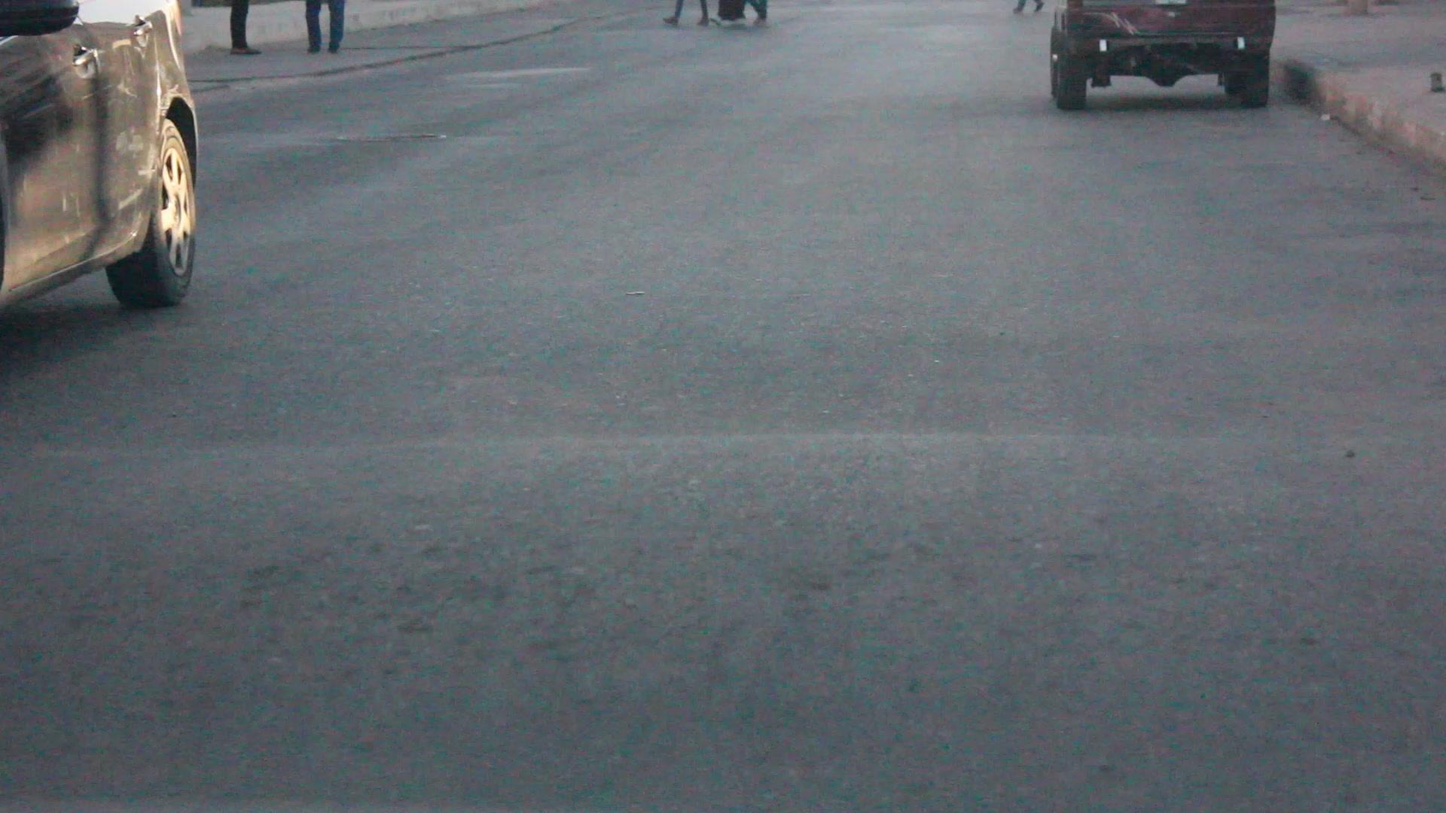Bump: (4, 435, 1446, 813)
